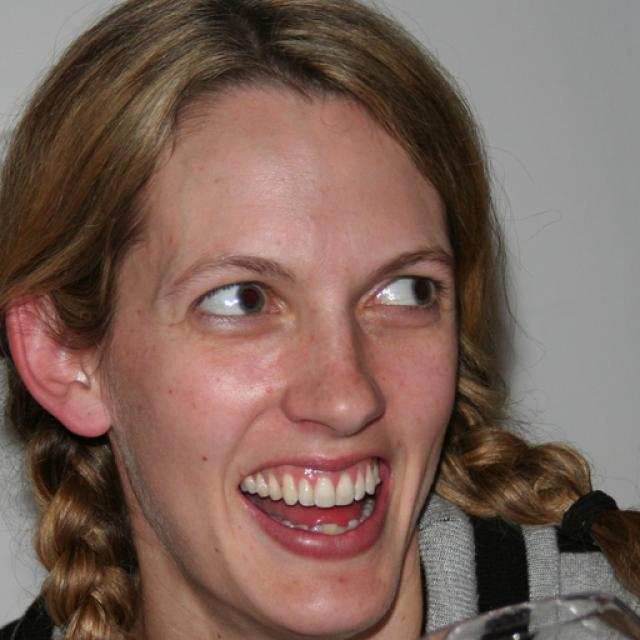Acne: (259, 382, 282, 400)
